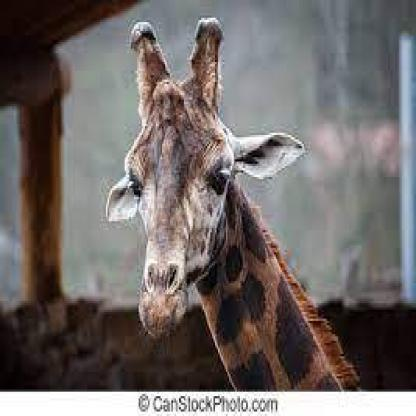giraffe: (106, 13, 371, 390)
